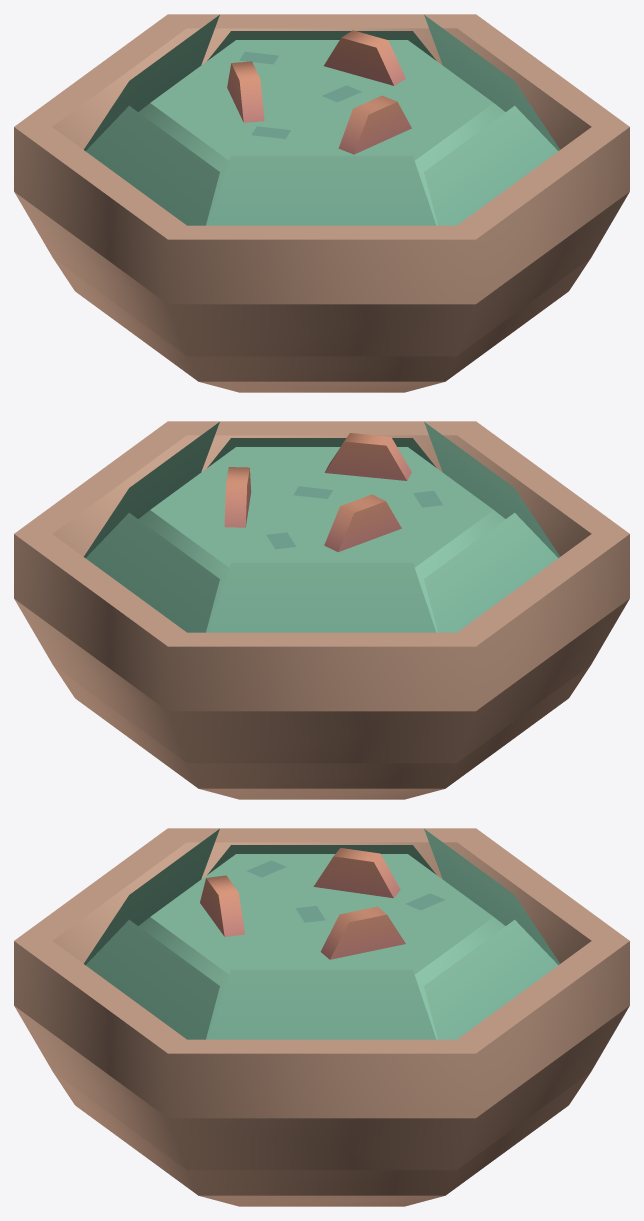
File: salad.glb
3 renders of one model, top to bottom at view 1: azimuth 30°, elevation 25°; view 2: azimuth 150°, elevation 25°; view 3: azimuth 270°, elevation 25°, orthographic.
Visible parts, largest first — view 1: salad; view 2: salad; view 3: salad.
Part boxes in pixels (x1,y1,x2,y2): salad: (14, 14, 629, 392); salad: (14, 421, 629, 799); salad: (14, 828, 629, 1206).
Size of the model in its own units: 0.5022 by 0.2734 by 0.5798.
